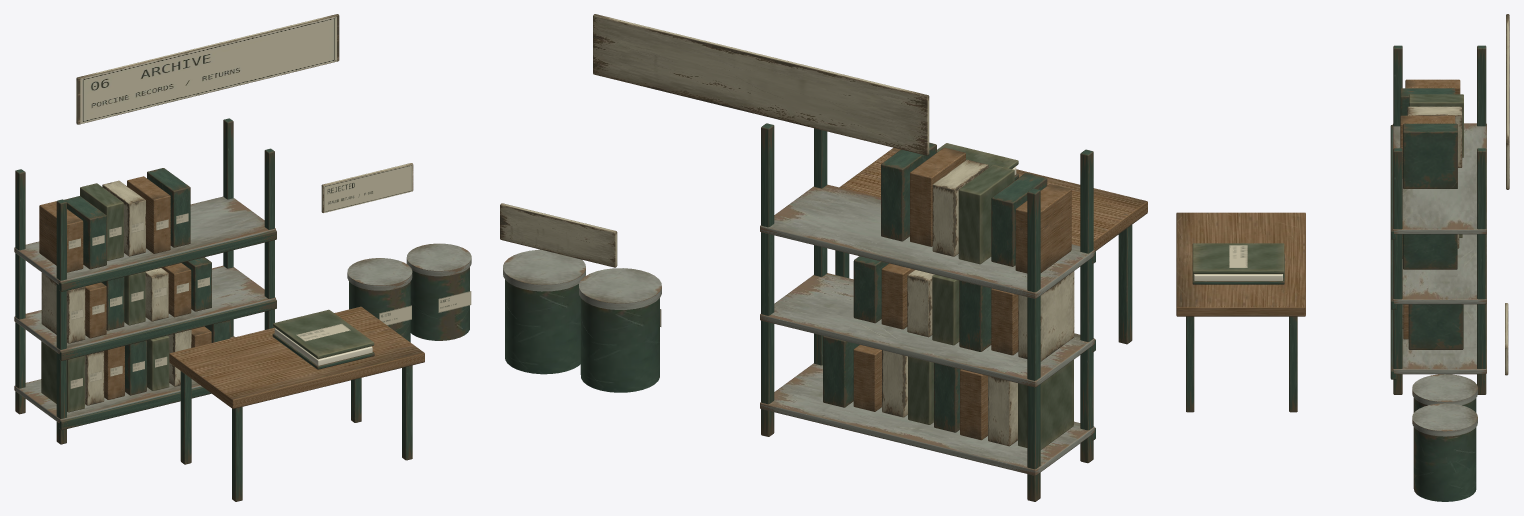
The model's file is 11_Archive.glb.
The picture shows the model from 3 angles, left to right: view 1: azimuth 30°, elevation 25°; view 2: azimuth 150°, elevation 25°; view 3: azimuth 270°, elevation 25°; orthographic projection. The views are drawn at different scales.
Parts seen in each view (by area): view 1: S5, S4, S1, S0, S3, S2, S7, Front board, S8, S9; view 2: S5, S3, S1, S4, S2, Front board; view 3: S5, S1, S4, Front board, S3, S2, S9, Stamped title.
Boxes of the visible parts, x1=… form: S5: x1=15, y1=118, x2=469, y2=501; S4: x1=39, y1=176, x2=424, y2=408; S1: x1=14, y1=196, x2=471, y2=422; S0: x1=80, y1=16, x2=336, y2=123; S3: x1=41, y1=14, x2=413, y2=405; S2: x1=41, y1=183, x2=169, y2=412; S7: x1=324, y1=164, x2=471, y2=325; Front board: x1=273, y1=309, x2=374, y2=359; S8: x1=68, y1=213, x2=209, y2=388; S9: x1=274, y1=328, x2=372, y2=365; S5: x1=505, y1=123, x2=1132, y2=501; S3: x1=500, y1=14, x2=1074, y2=446; S1: x1=503, y1=184, x2=1094, y2=475; S4: x1=839, y1=147, x2=1147, y2=440; S2: x1=908, y1=164, x2=1073, y2=449; Front board: x1=937, y1=143, x2=1018, y2=168; S5: x1=1186, y1=45, x2=1486, y2=501; S1: x1=1392, y1=123, x2=1486, y2=436; S4: x1=1176, y1=79, x2=1460, y2=339; Front board: x1=1192, y1=243, x2=1284, y2=273; S3: x1=1402, y1=14, x2=1509, y2=375; S2: x1=1409, y1=94, x2=1463, y2=237; S9: x1=1194, y1=274, x2=1282, y2=280; Stamped title: x1=1229, y1=245, x2=1247, y2=267.
Bounding box in the file's own units: 3.87 × 2.63 × 2.55.
11 materials, 10 textured.
